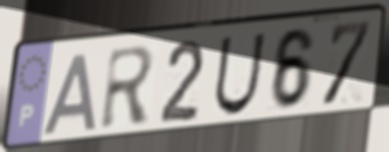2: (158, 37, 207, 127)
6: (265, 26, 320, 114)
7: (323, 18, 373, 110)
A: (41, 50, 101, 138)
R: (98, 43, 158, 133)
U: (211, 30, 268, 119)
